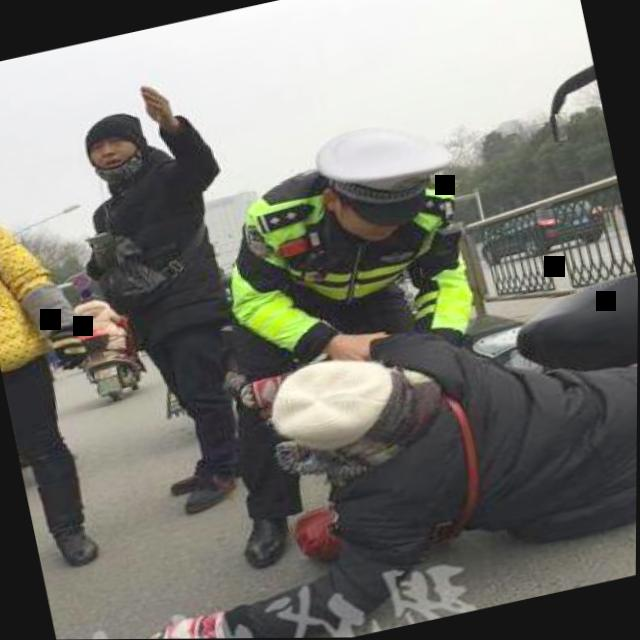Fall-Detected: (83, 271, 638, 639)
